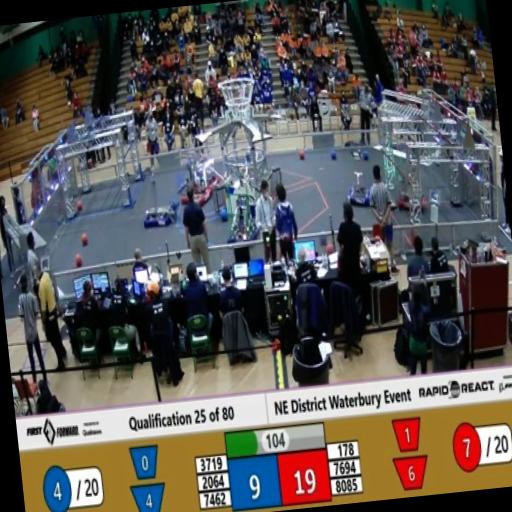robot: (136, 159, 182, 232), (173, 147, 215, 215), (183, 131, 223, 195), (391, 152, 429, 218), (224, 187, 263, 251), (343, 162, 376, 210)
